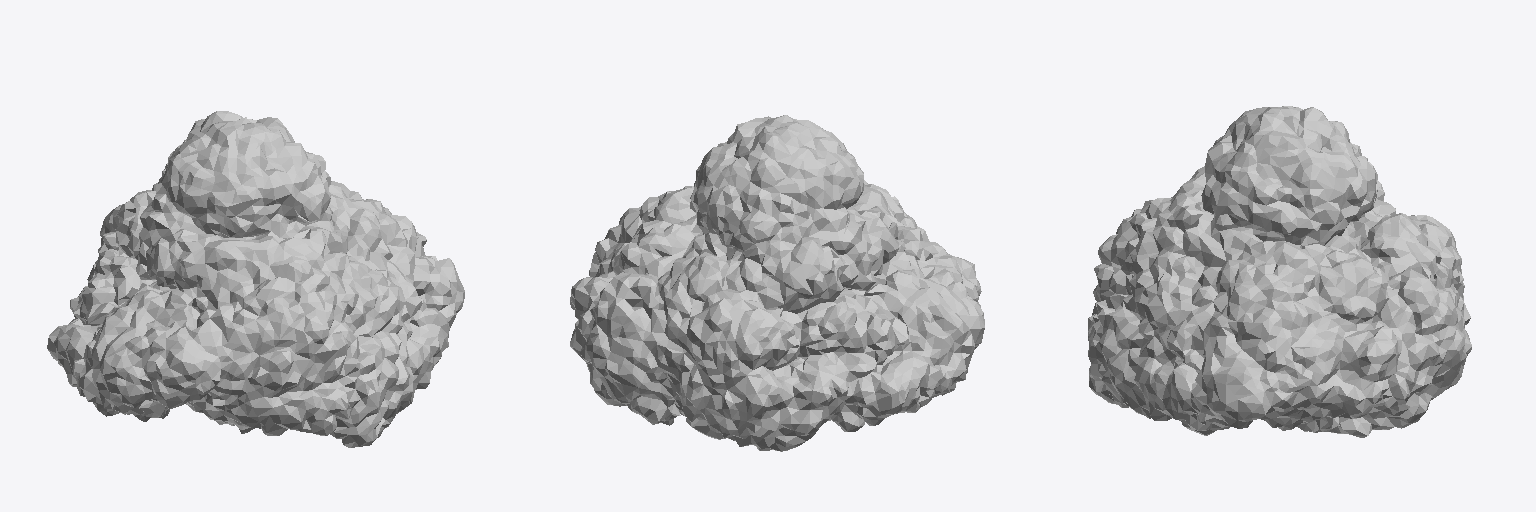
Rendered from cloud1.obj.
3 views of the same model, side by side, from view 1: azimuth 30°, elevation 25°; view 2: azimuth 150°, elevation 25°; view 3: azimuth 270°, elevation 25° (orthographic).
Visible parts, largest first — view 1: 白云_[number redacted]_texture; view 2: 白云_[number redacted]_texture; view 3: 白云_[number redacted]_texture.
Part boxes in pixels (bbox=[...]): 白云_[number redacted]_texture: bbox=[47, 111, 464, 447]; 白云_[number redacted]_texture: bbox=[570, 115, 984, 451]; 白云_[number redacted]_texture: bbox=[1088, 106, 1471, 437].
Size of the model in its own units: 1.99 by 1.42 by 1.79.